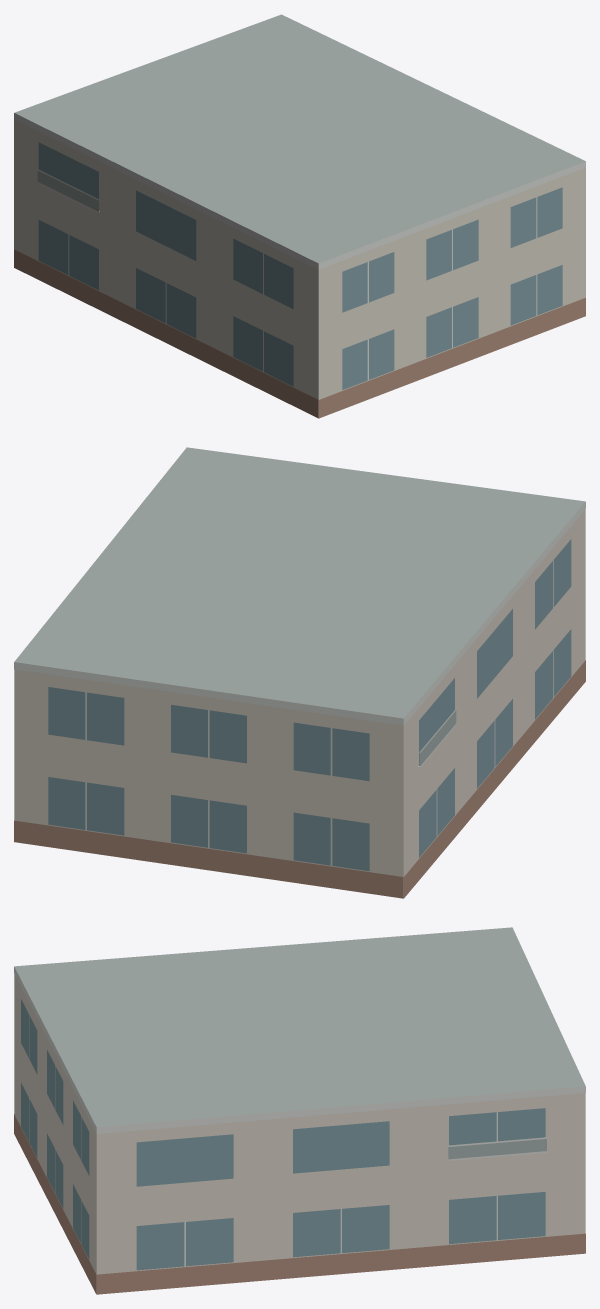
Rendered from survey-upis-32861516.glb.
3 views of the same model, one above another, from view 1: azimuth 30°, elevation 25°; view 2: azimuth 150°, elevation 25°; view 3: azimuth 270°, elevation 25° (orthographic). The views are drawn at different scales.
Visible parts, largest first — view 1: survey-upis-32861516.tmp; view 2: survey-upis-32861516.tmp; view 3: survey-upis-32861516.tmp.
Part boxes in pixels (left/top/right/bottom): survey-upis-32861516.tmp: left=14, top=14, right=585, bottom=418; survey-upis-32861516.tmp: left=14, top=447, right=585, bottom=898; survey-upis-32861516.tmp: left=14, top=927, right=585, bottom=1294.
Size of the model in its own units: 15.64 by 6.1 by 18.89.
